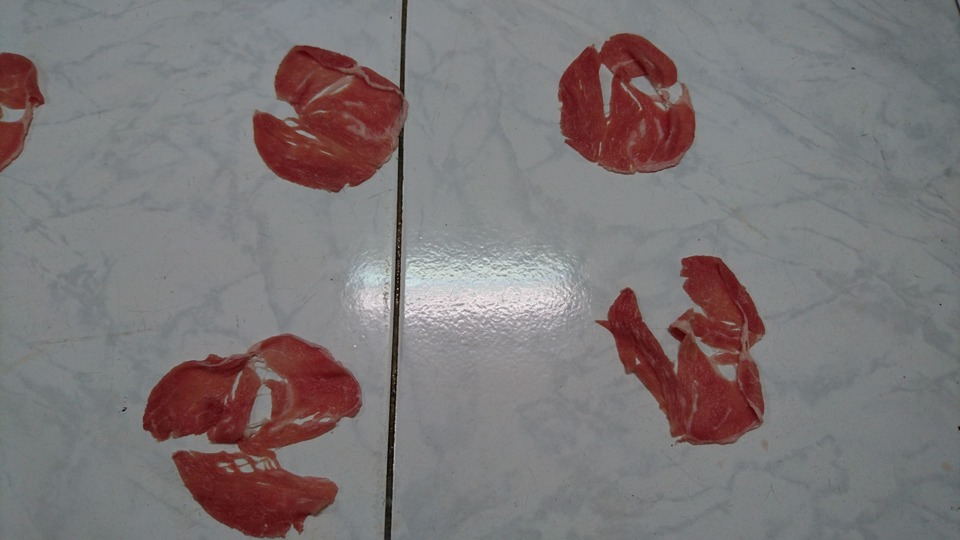restructured meat: (141, 314, 365, 540), (598, 253, 800, 458), (253, 42, 417, 205), (548, 20, 708, 178), (1, 42, 51, 165)
